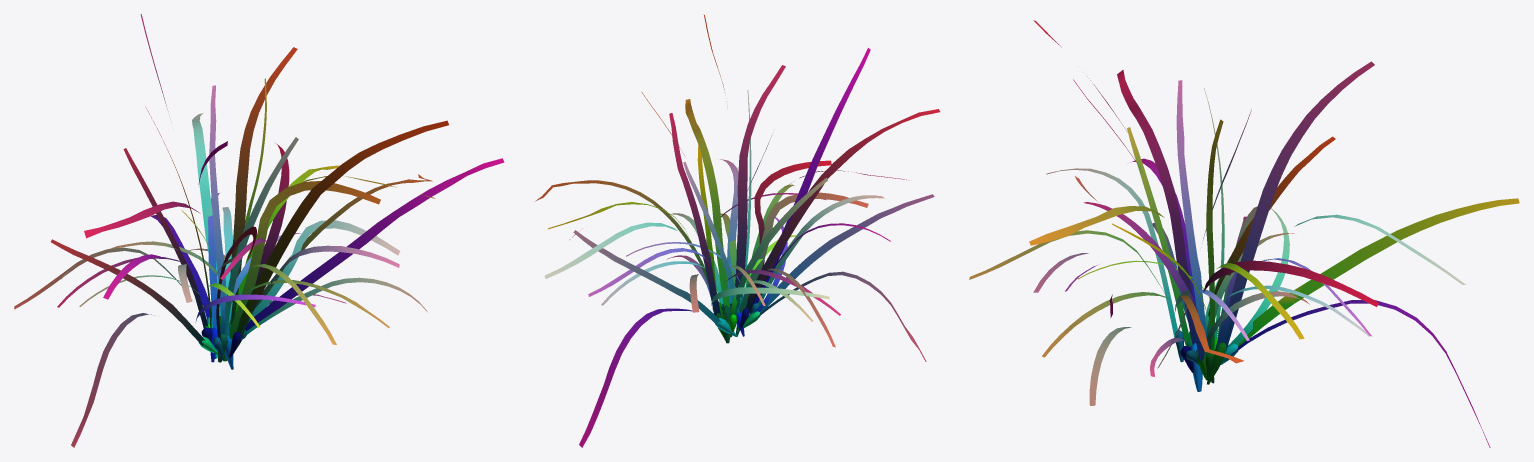
The model's file is Ribbon_Grass_tbdpec3r_High_tbdpec3r_VarA_LOD0.glb.
3 views of the same model, side by side, from view 1: azimuth 30°, elevation 25°; view 2: azimuth 150°, elevation 25°; view 3: azimuth 270°, elevation 25° (orthographic). The views are drawn at different scales.
Visible parts, largest first — view 1: _d4a2_VarA_LOD0; view 2: _d4a2_VarA_LOD0; view 3: _d4a2_VarA_LOD0.
Boxes of the visible parts, box(x1,y1,x2,y2) form: _d4a2_VarA_LOD0: box(14, 14, 504, 447); _d4a2_VarA_LOD0: box(535, 14, 940, 447); _d4a2_VarA_LOD0: box(969, 20, 1519, 447).
Size of the model in its own units: 0.7082 by 0.541 by 0.7291.
